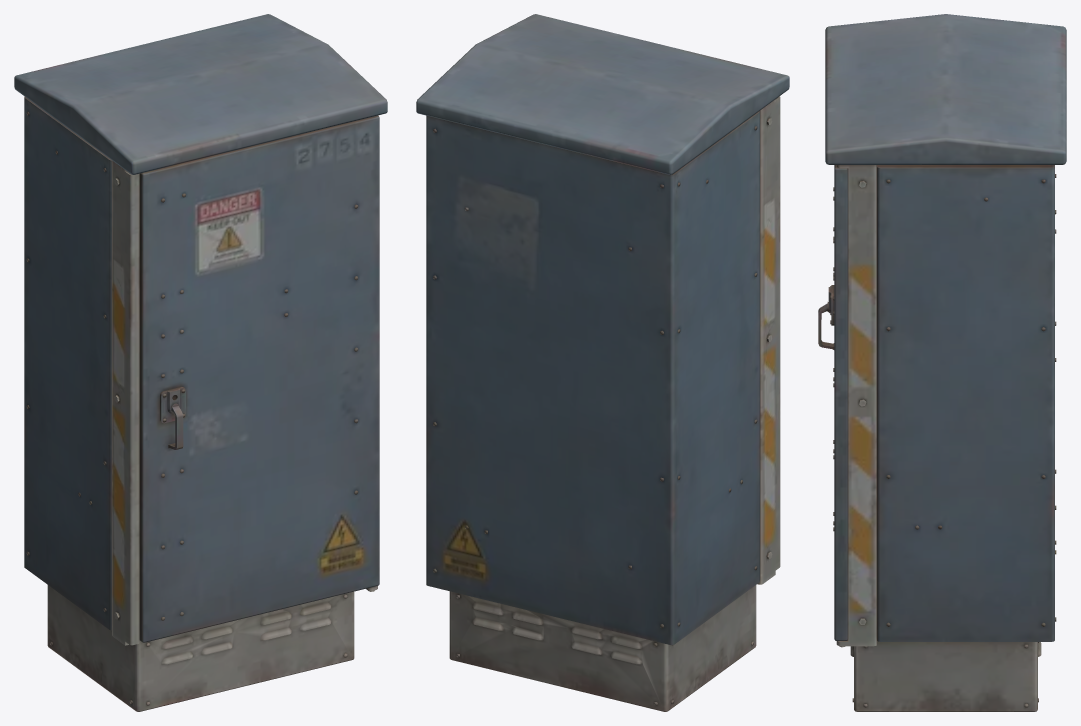
File: utility_box_01.glb
3 views of the same model, side by side, from view 1: azimuth 30°, elevation 25°; view 2: azimuth 150°, elevation 25°; view 3: azimuth 270°, elevation 25° (orthographic).
Visible parts, largest first — view 1: utility_box_01_box; view 2: utility_box_01_box; view 3: utility_box_01_box.
Boxes of the visible parts, x1=… form: utility_box_01_box: x1=14, y1=14, x2=387, y2=711; utility_box_01_box: x1=416, y1=14, x2=789, y2=711; utility_box_01_box: x1=818, y1=14, x2=1066, y2=711.
Bounding box in the file's own units: 0.52 × 1.12 × 0.4319.
1 material, 1 textured.
